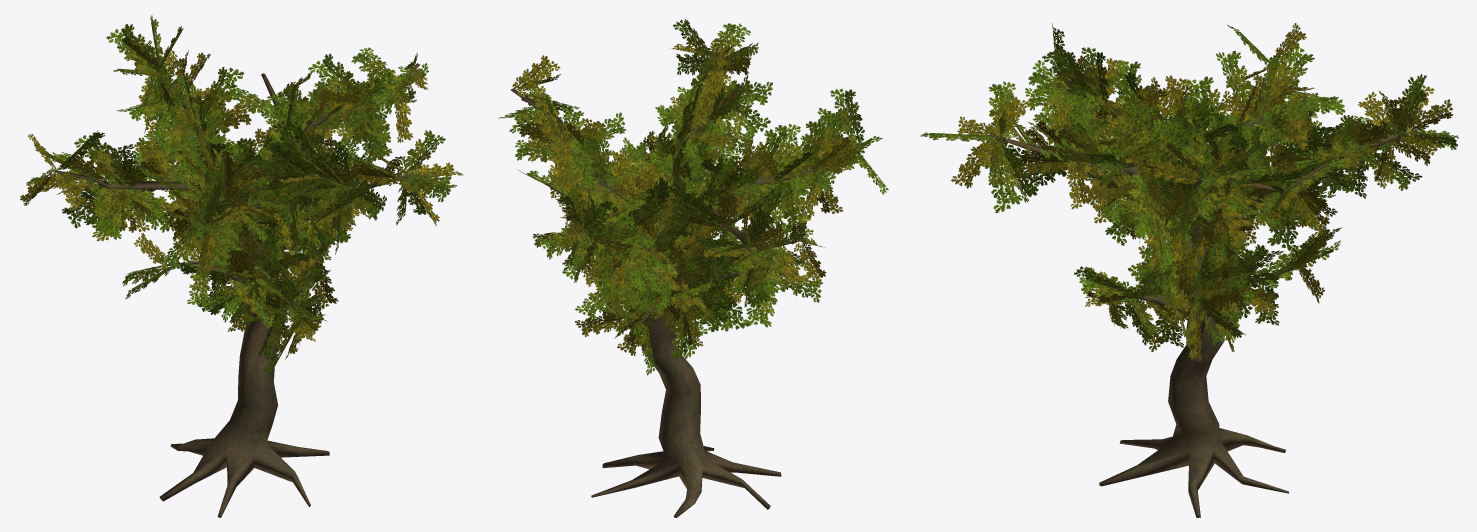
File: low_poly_more_tree_three.glb
3 views of the same model, side by side, from view 1: azimuth 30°, elevation 25°; view 2: azimuth 150°, elevation 25°; view 3: azimuth 270°, elevation 25° (orthographic). The views are drawn at different scales.
Parts seen in each view (by area): view 1: branches-green-01_branches-full-diffuse-v2_0, branches-yellow-01_branches-full-diffuse-v2_0, tree-bark-low-01_tree-bark-01_0; view 2: branches-green-01_branches-full-diffuse-v2_0, branches-yellow-01_branches-full-diffuse-v2_0, tree-bark-low-01_tree-bark-01_0; view 3: branches-green-01_branches-full-diffuse-v2_0, branches-yellow-01_branches-full-diffuse-v2_0, tree-bark-low-01_tree-bark-01_0.
Part boxes in pixels (x1=…): branches-green-01_branches-full-diffuse-v2_0: x1=26, y1=15, x2=457, y2=372; branches-yellow-01_branches-full-diffuse-v2_0: x1=20, y1=26, x2=463, y2=359; tree-bark-low-01_tree-bark-01_0: x1=52, y1=63, x2=419, y2=517; branches-green-01_branches-full-diffuse-v2_0: x1=498, y1=19, x2=888, y2=375; branches-yellow-01_branches-full-diffuse-v2_0: x1=512, y1=42, x2=861, y2=355; tree-bark-low-01_tree-bark-01_0: x1=511, y1=53, x2=860, y2=517; branches-green-01_branches-full-diffuse-v2_0: x1=920, y1=23, x2=1458, y2=347; branches-yellow-01_branches-full-diffuse-v2_0: x1=951, y1=23, x2=1453, y2=361; tree-bark-low-01_tree-bark-01_0: x1=989, y1=62, x2=1407, y2=517.
Bounding box in the file's own units: 14.6 × 15.13 × 17.61.
Materials: 2 (2 with a texture image).
